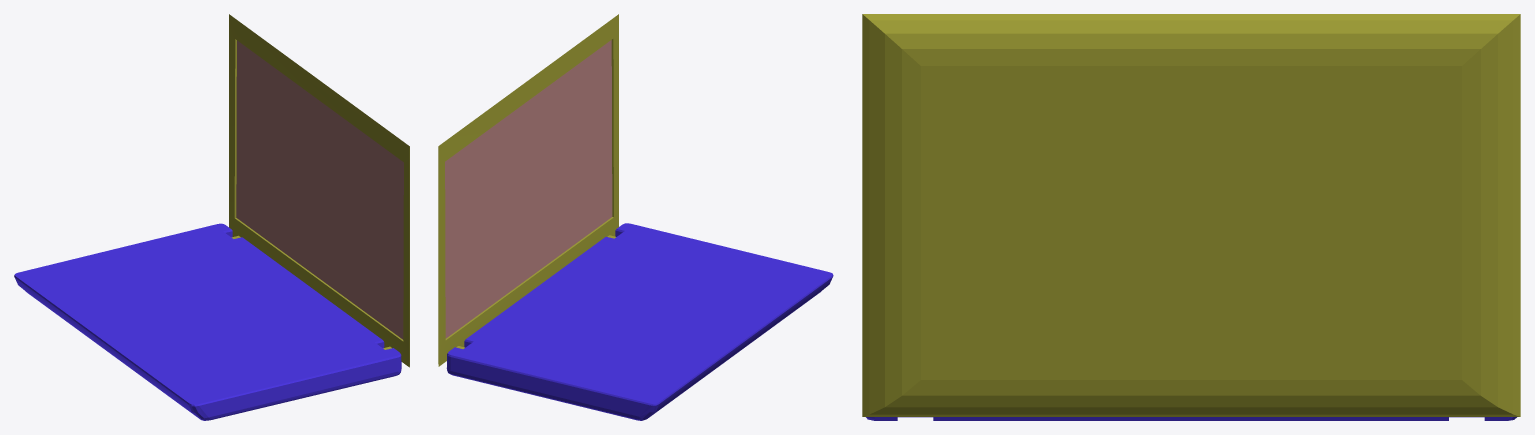
File: laptop.FBX
The picture shows the model from 3 angles, left to right: view 1: azimuth 30°, elevation 25°; view 2: azimuth 150°, elevation 25°; view 3: azimuth 270°, elevation 25°; orthographic projection. The views are drawn at different scales.
Parts seen in each view (by area): view 1: base, lid; view 2: base, lid; view 3: lid, base.
Part boxes in pixels (x1,y1,x2,y2): base: (14, 223, 401, 420); lid: (229, 14, 409, 367); base: (446, 223, 833, 420); lid: (438, 14, 618, 366); lid: (862, 14, 1520, 416); base: (866, 417, 1516, 420).
Bounding box in the file's own units: 26.67 × 25.81 × 37.
